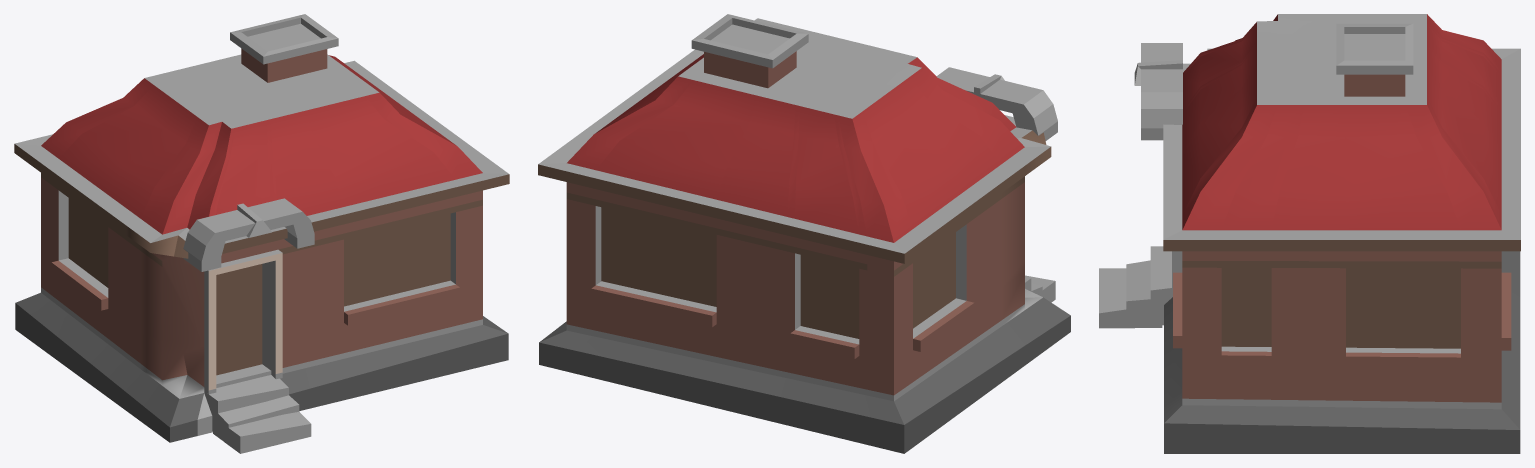
Rendered from Building_1.fbx.
The picture shows the model from 3 angles, left to right: view 1: azimuth 30°, elevation 25°; view 2: azimuth 150°, elevation 25°; view 3: azimuth 270°, elevation 25°; orthographic projection. The views are drawn at different scales.
Visible parts, largest first — view 1: Building_1; view 2: Building_1; view 3: Building_1.
Boxes of the visible parts, x1,y1,x2,y2 form: Building_1: (14, 14, 509, 453); Building_1: (538, 14, 1070, 453); Building_1: (1099, 14, 1520, 453).
Bounding box in the file's own units: 55.58 × 45.61 × 51.8.
